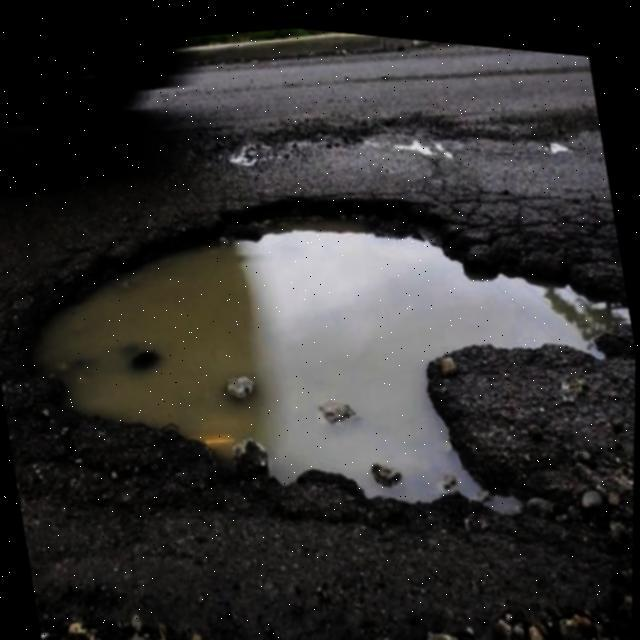pothole: (0, 104, 639, 592)
